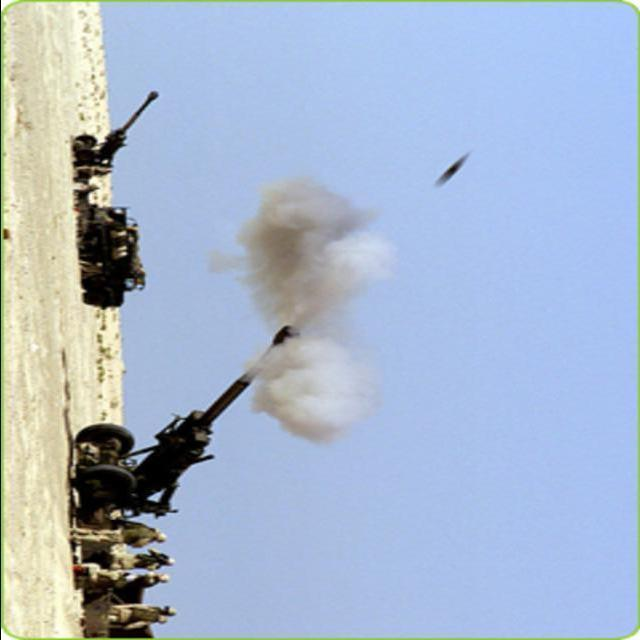missile: (430, 147, 479, 194)
